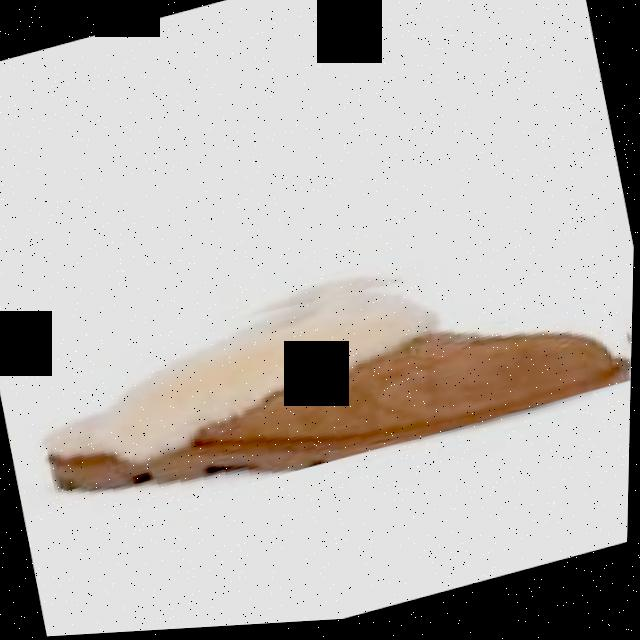shoe: (47, 294, 633, 492)
